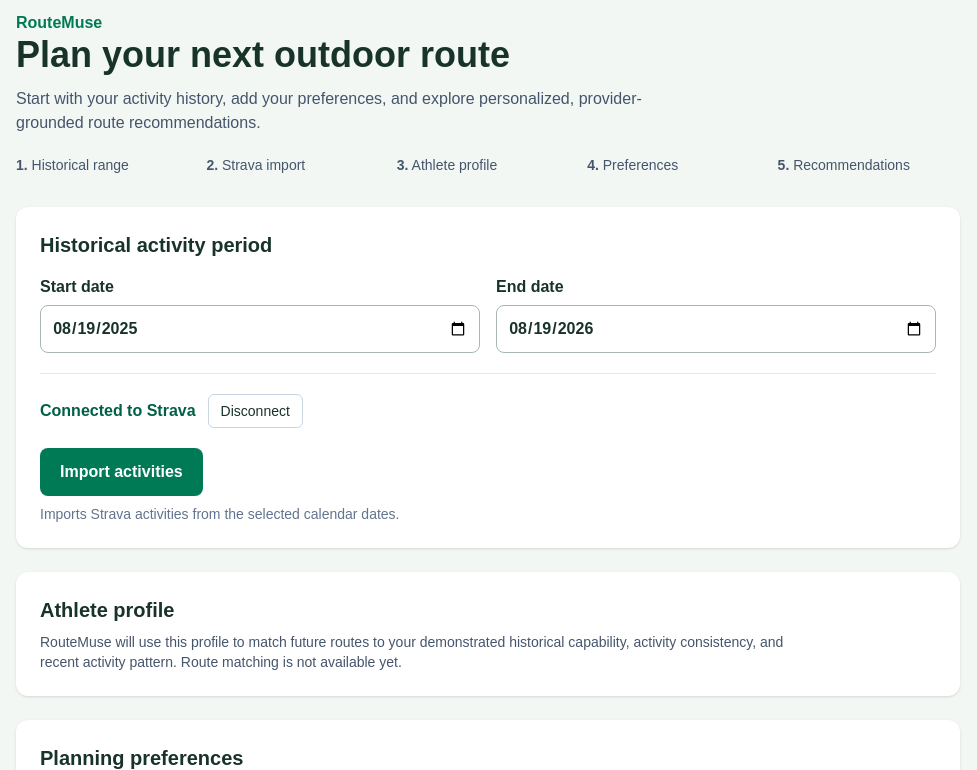
Scenario: PlannerForm › shows a dedicated zero-activity state
The image size is (977, 770).
Expected: the text "Connected to Strava" is shown, [40, 399, 196, 423]
Click the button "Import activities" at (121, 472), box [40, 448, 203, 496]
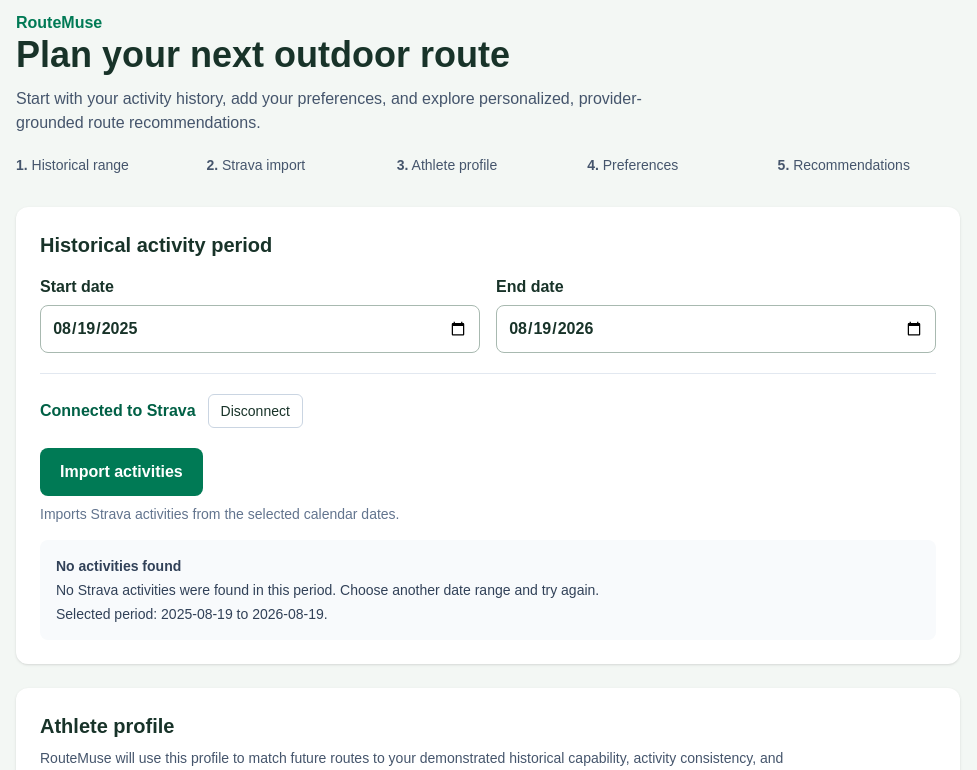
Expected: the text "No activities found" is shown, [56, 558, 181, 574]
Expected: the text "Choose another date range" is shown, [56, 582, 599, 598]
